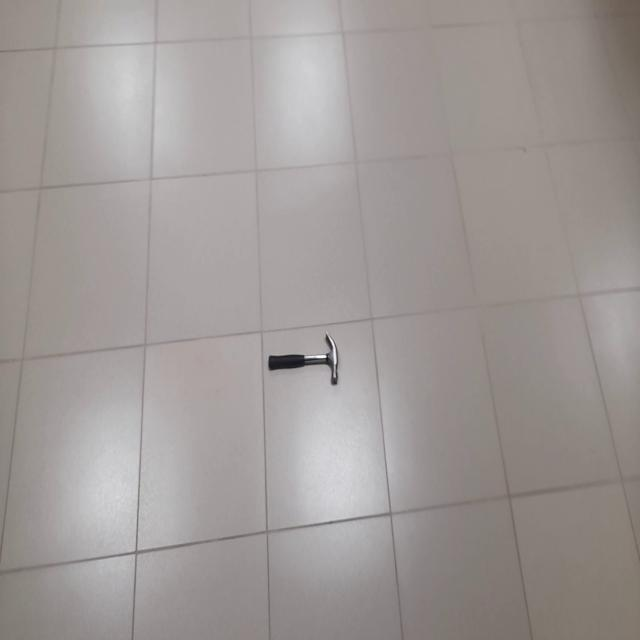hammer: (269, 330, 338, 386)
